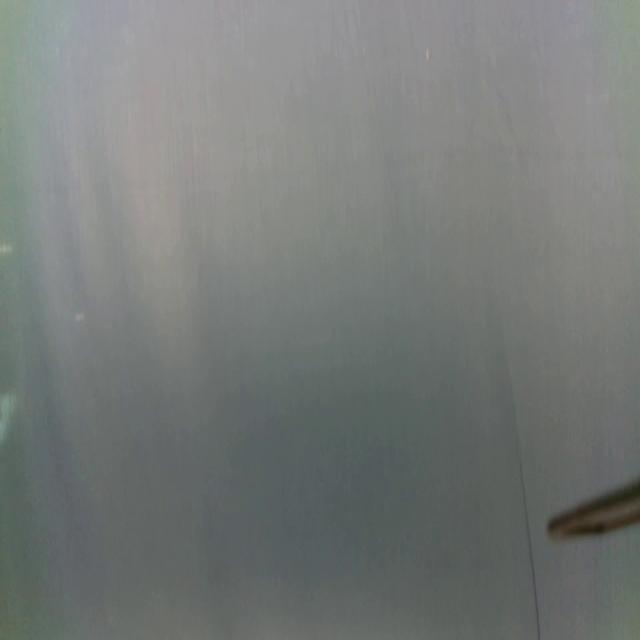crease: (514, 439, 542, 640)
hole: (425, 44, 431, 68)
